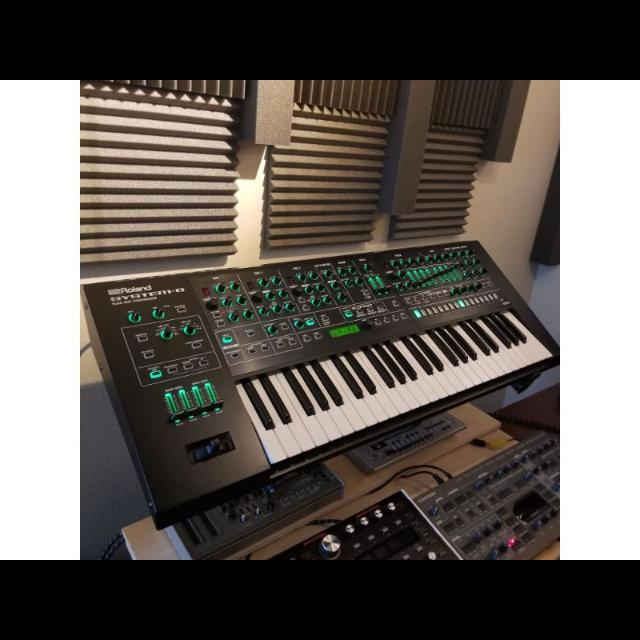Electronic-Keyboard: (87, 238, 547, 490)
